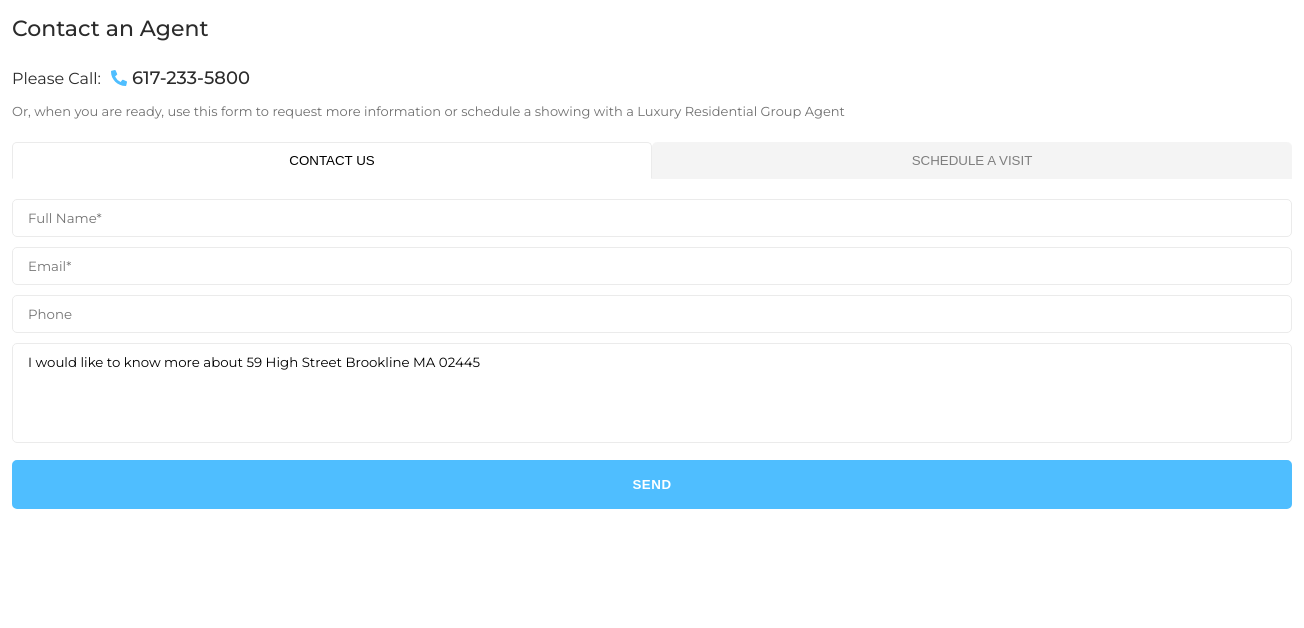
Test: ListingContactUs component › should change tabs content
Click the button "Schedule a Visit".
click(972, 160)  # box [652,142,1292,178]
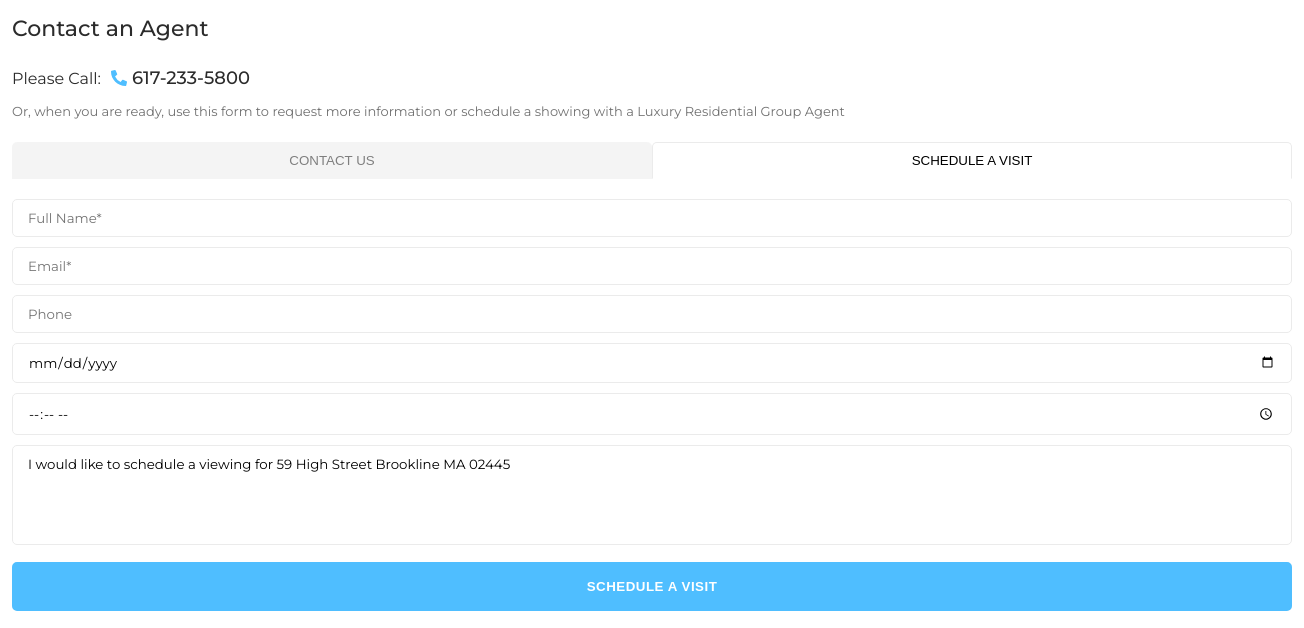
Expected: the form with id "aside-schedule" is shown
Click the button "Contact Us".
click(332, 160)  # box [12,142,652,178]
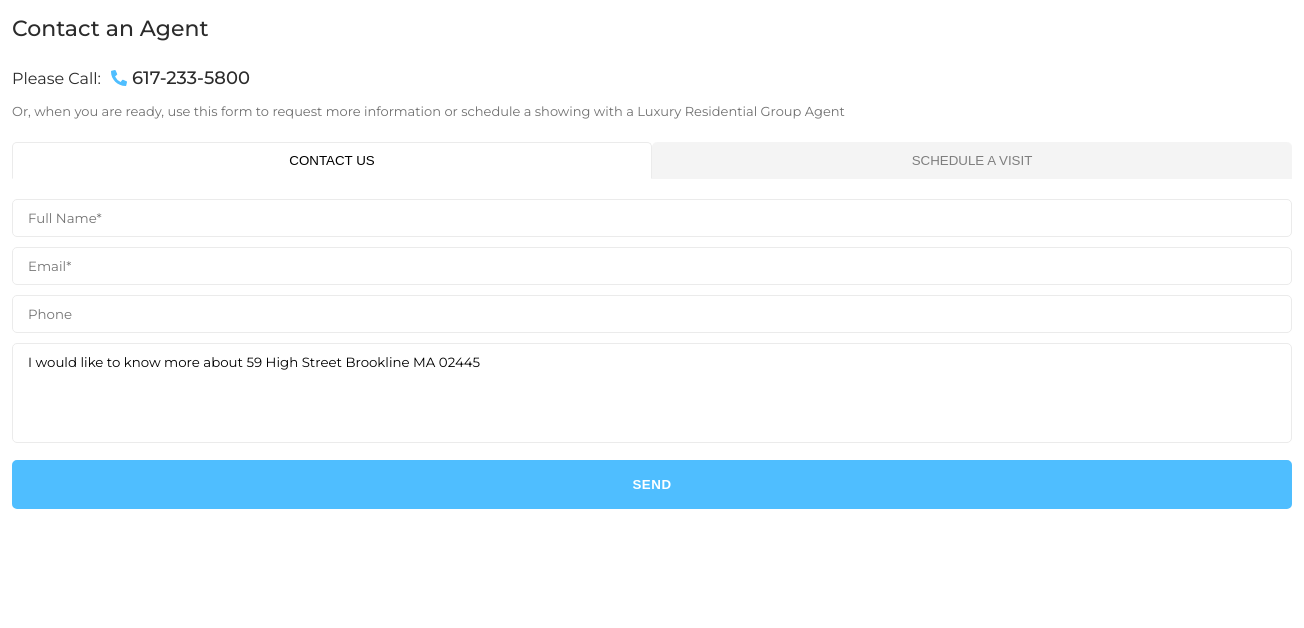
Expected: the form with id "aside-contact" is shown, [12,198,1292,508]
